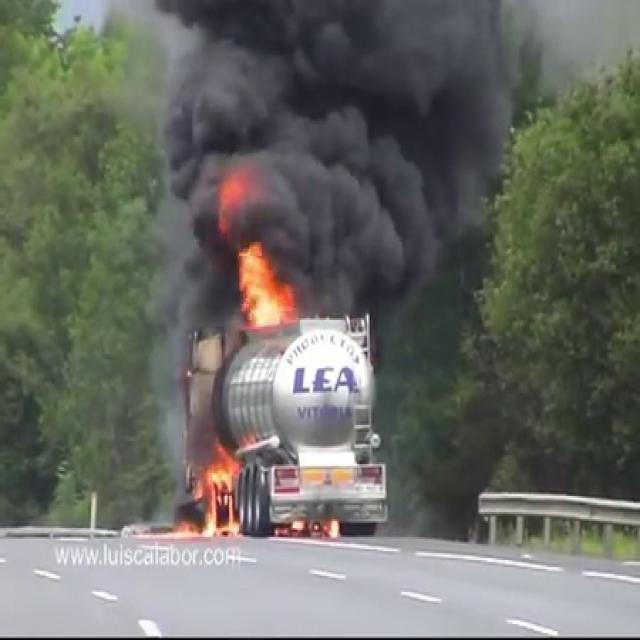Fire: (218, 187, 296, 331), (190, 443, 248, 538)
Smoke: (112, 1, 582, 328)
